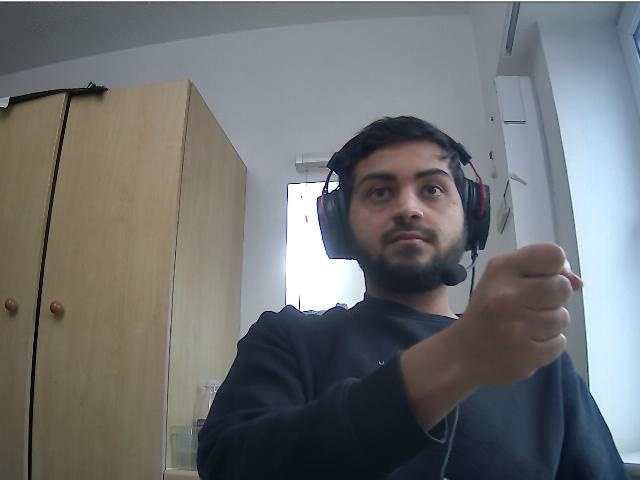hold: (471, 242, 585, 385)
